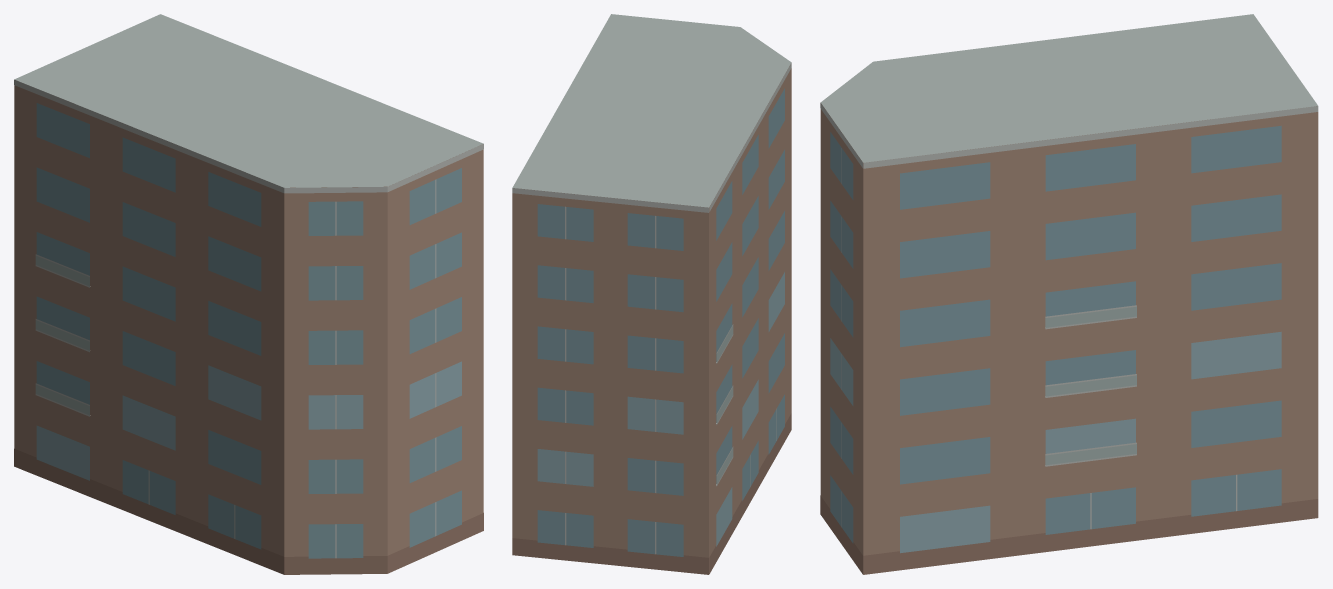
The model's file is survey-upis-32920178.glb.
3 renders of one model, left to right at view 1: azimuth 30°, elevation 25°; view 2: azimuth 150°, elevation 25°; view 3: azimuth 270°, elevation 25°, orthographic. The views are drawn at different scales.
Parts seen in each view (by area): view 1: survey-upis-32920178.tmp; view 2: survey-upis-32920178.tmp; view 3: survey-upis-32920178.tmp.
Boxes of the visible parts, x1,y1,x2,y2 form: survey-upis-32920178.tmp: (14,14,483,574); survey-upis-32920178.tmp: (512,14,791,574); survey-upis-32920178.tmp: (820,14,1318,574).
Size of the model in its own units: 13.02 by 16.8 by 18.4.
